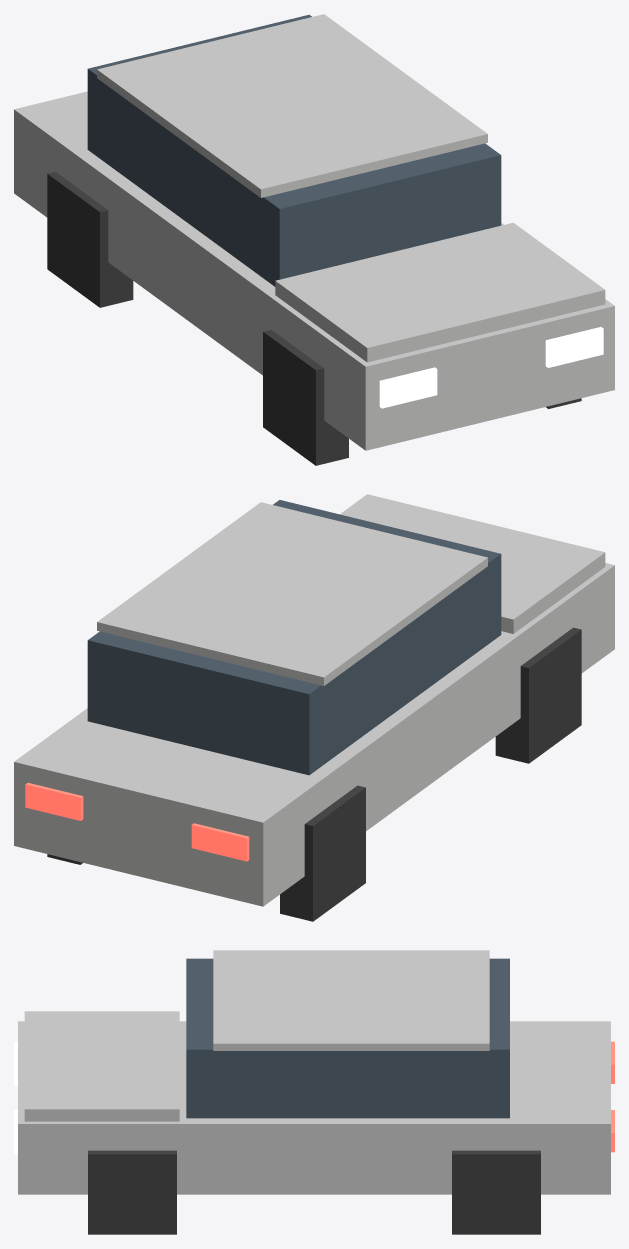
File: car-0.glb
3 renders of one model, top to bottom at view 1: azimuth 30°, elevation 25°; view 2: azimuth 150°, elevation 25°; view 3: azimuth 270°, elevation 25°, orthographic. The views are drawn at different scales.
Bounding box in the file's own units: 1.92 × 1.5 × 4.46.
